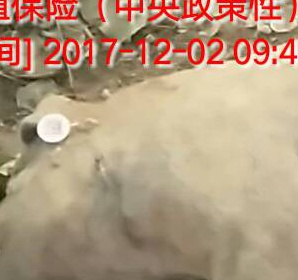text: (24, 99, 89, 160)
